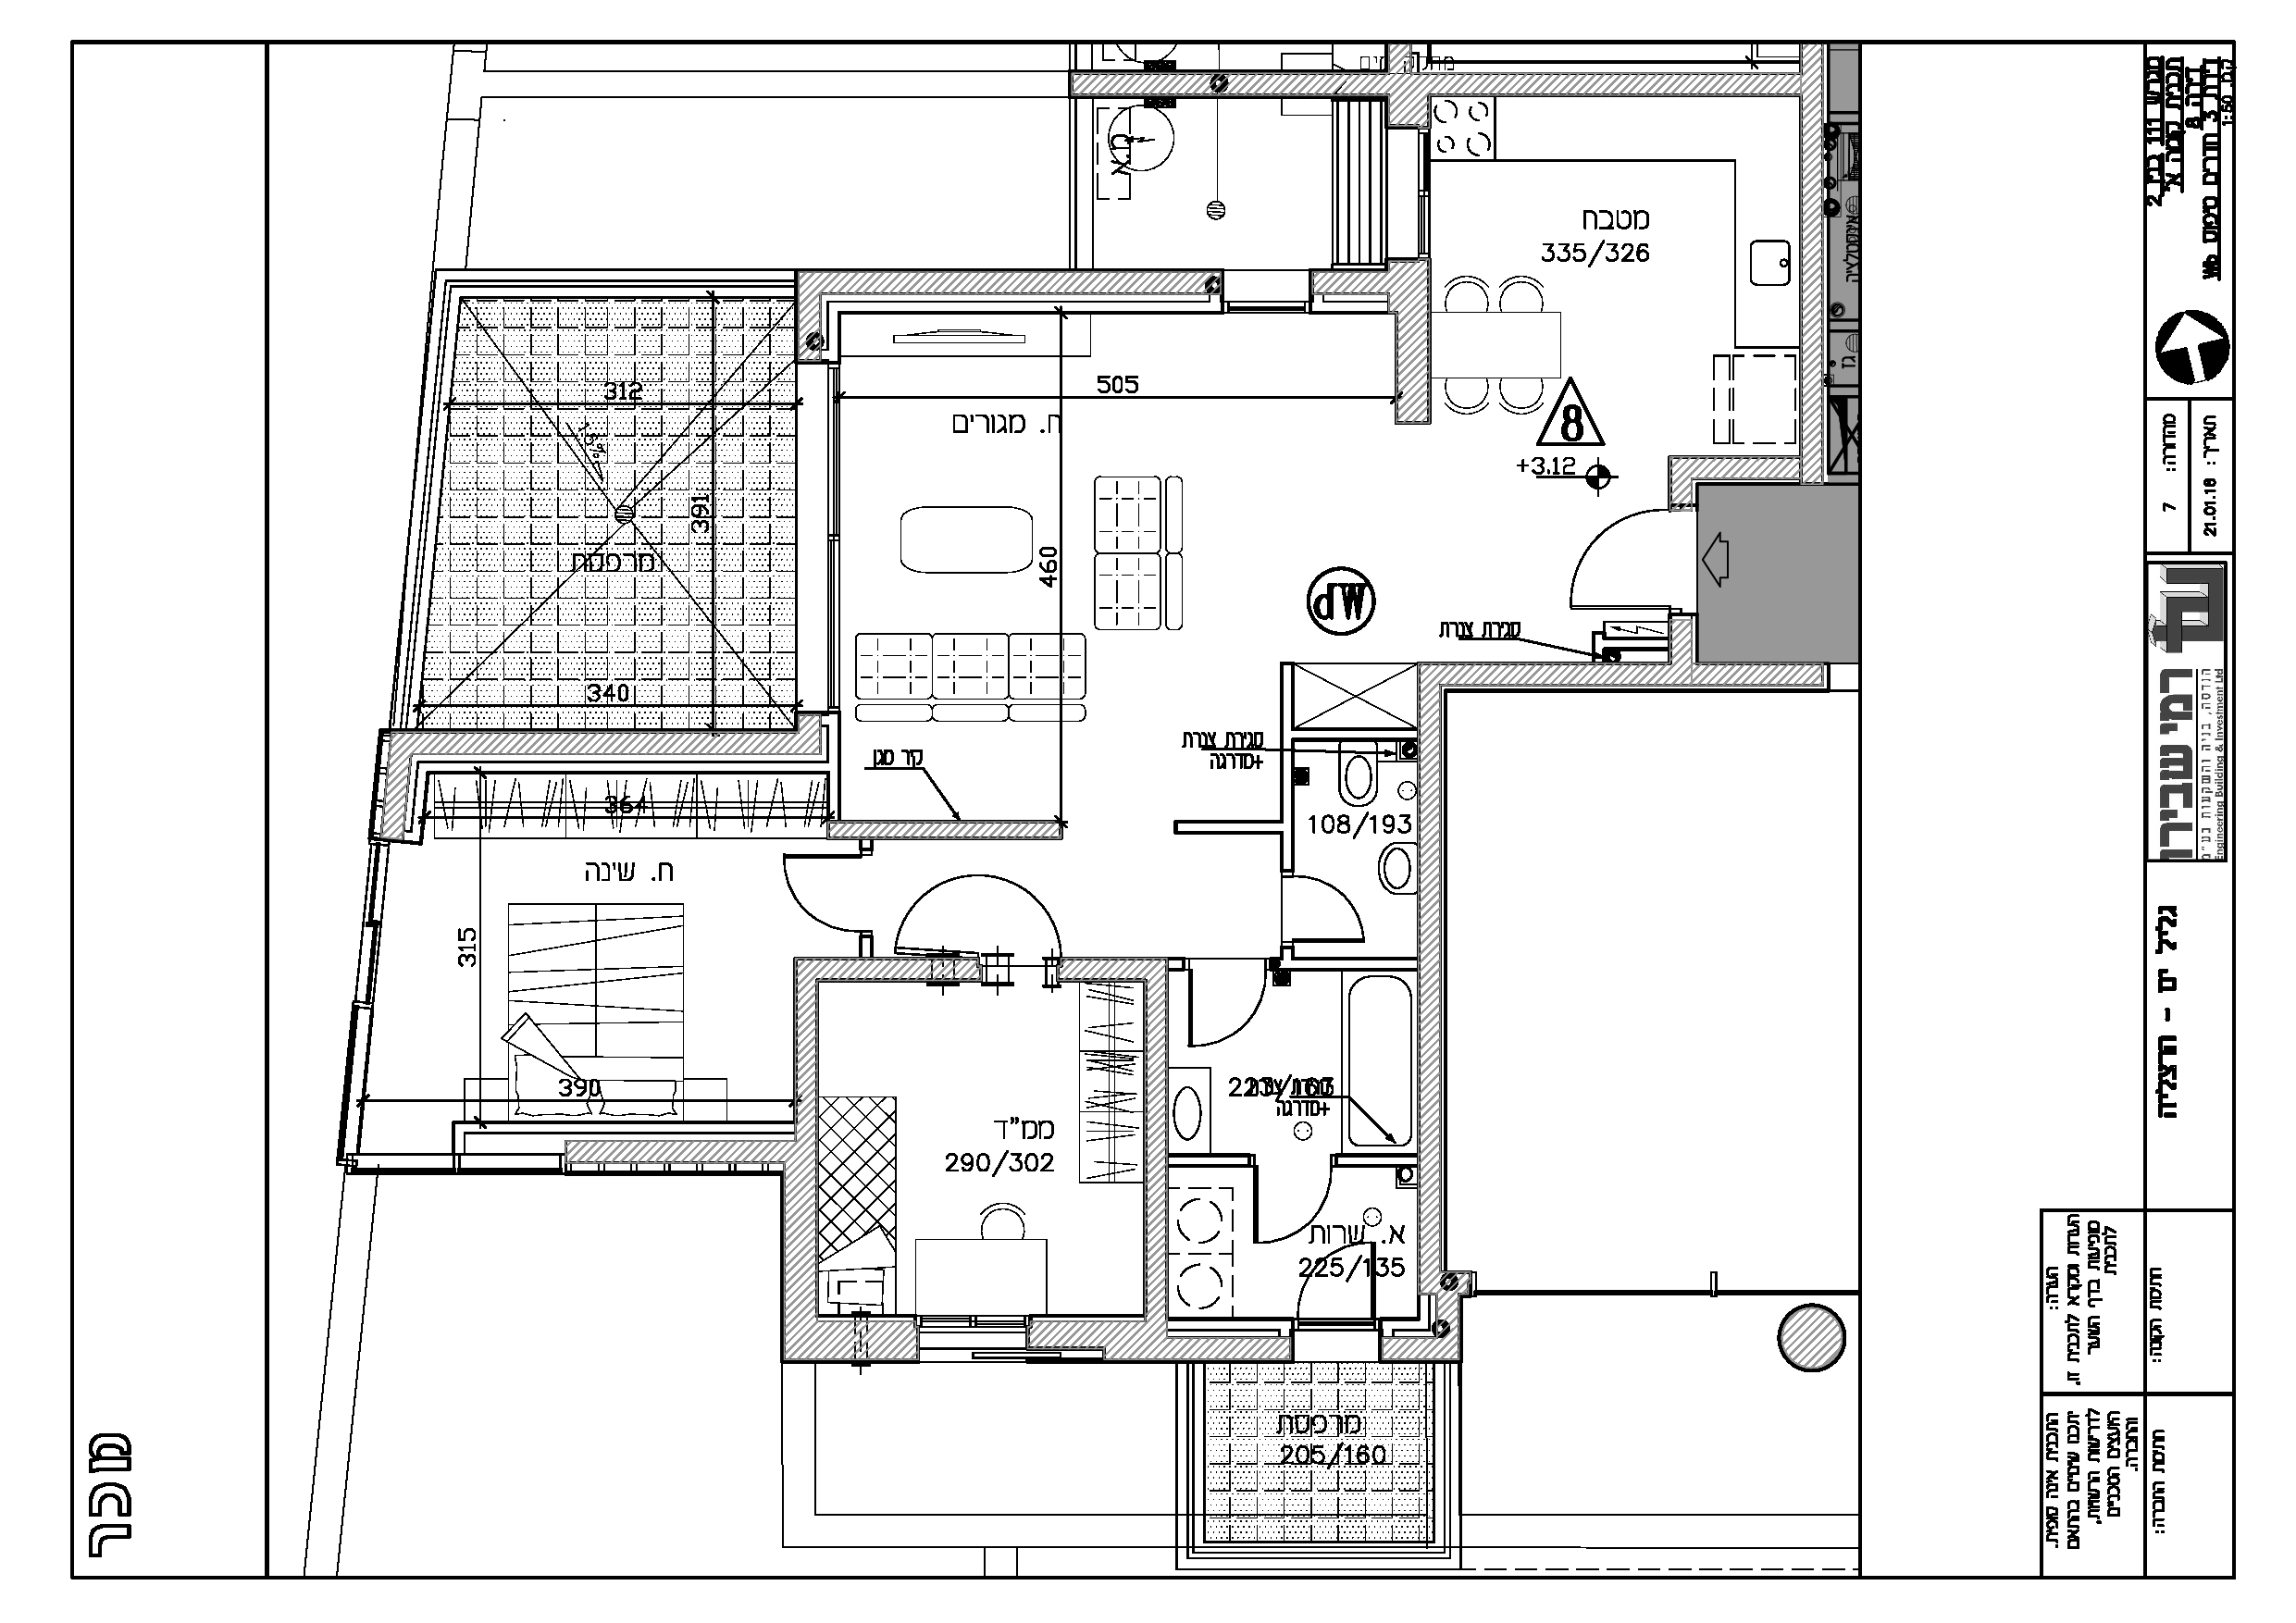door: (1563, 502, 1715, 618), (768, 843, 896, 949), (1175, 947, 1282, 1057), (1282, 1235, 1393, 1340), (1267, 864, 1370, 957)
window: (892, 1309, 1054, 1381), (1268, 1309, 1405, 1374)
